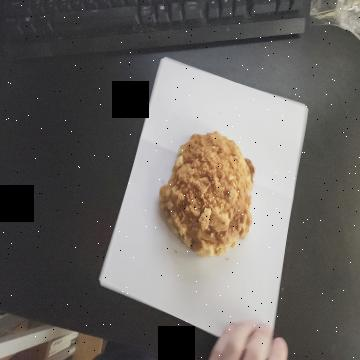soboru_bread: (159, 128, 256, 260)
